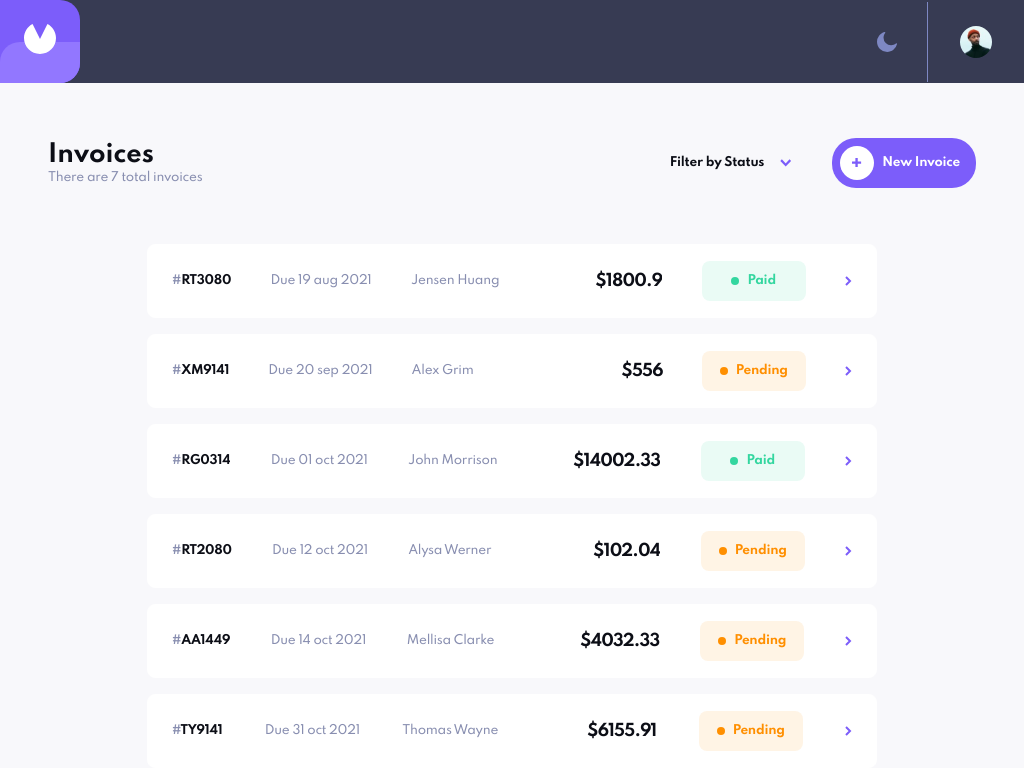
Test: Testing Dashboard component › Testing InvoicesShortsList behavior inside the Dashboard component › Cliking on an InvoiceShort targets InvoiceDetails component to render with the corresponding invoice as a prop
What coordinates should you click on to do the following:
click the element with class "invoice-short" that starts with "RT3080"
I would click on:
 (512, 281)
Its box is [147,244,877,318].
(page scrolled)
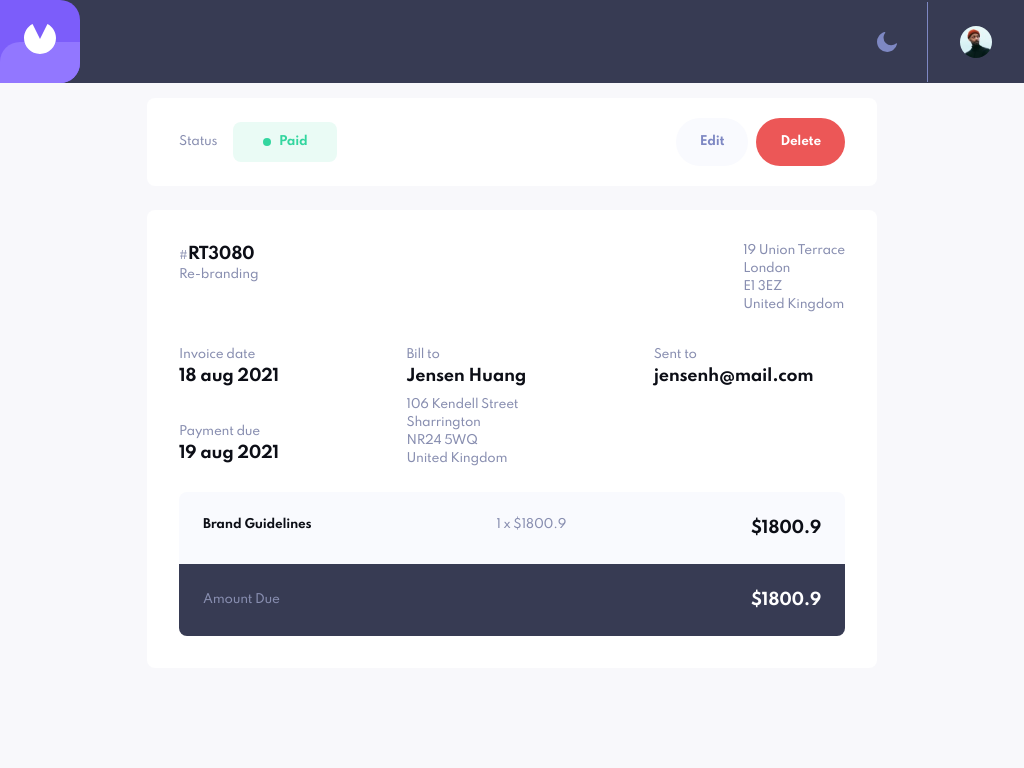
Now the element with test id "invoice-details" is shown, box [147,210,877,668]
Now the element with test id "invoice-details" shows "RT3080", box [188,245,254,263]
